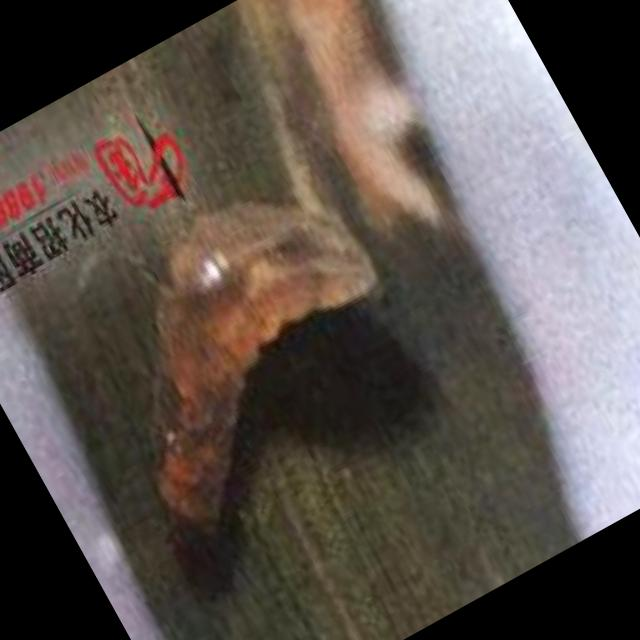whorl-maggot: (150, 207, 381, 549)
